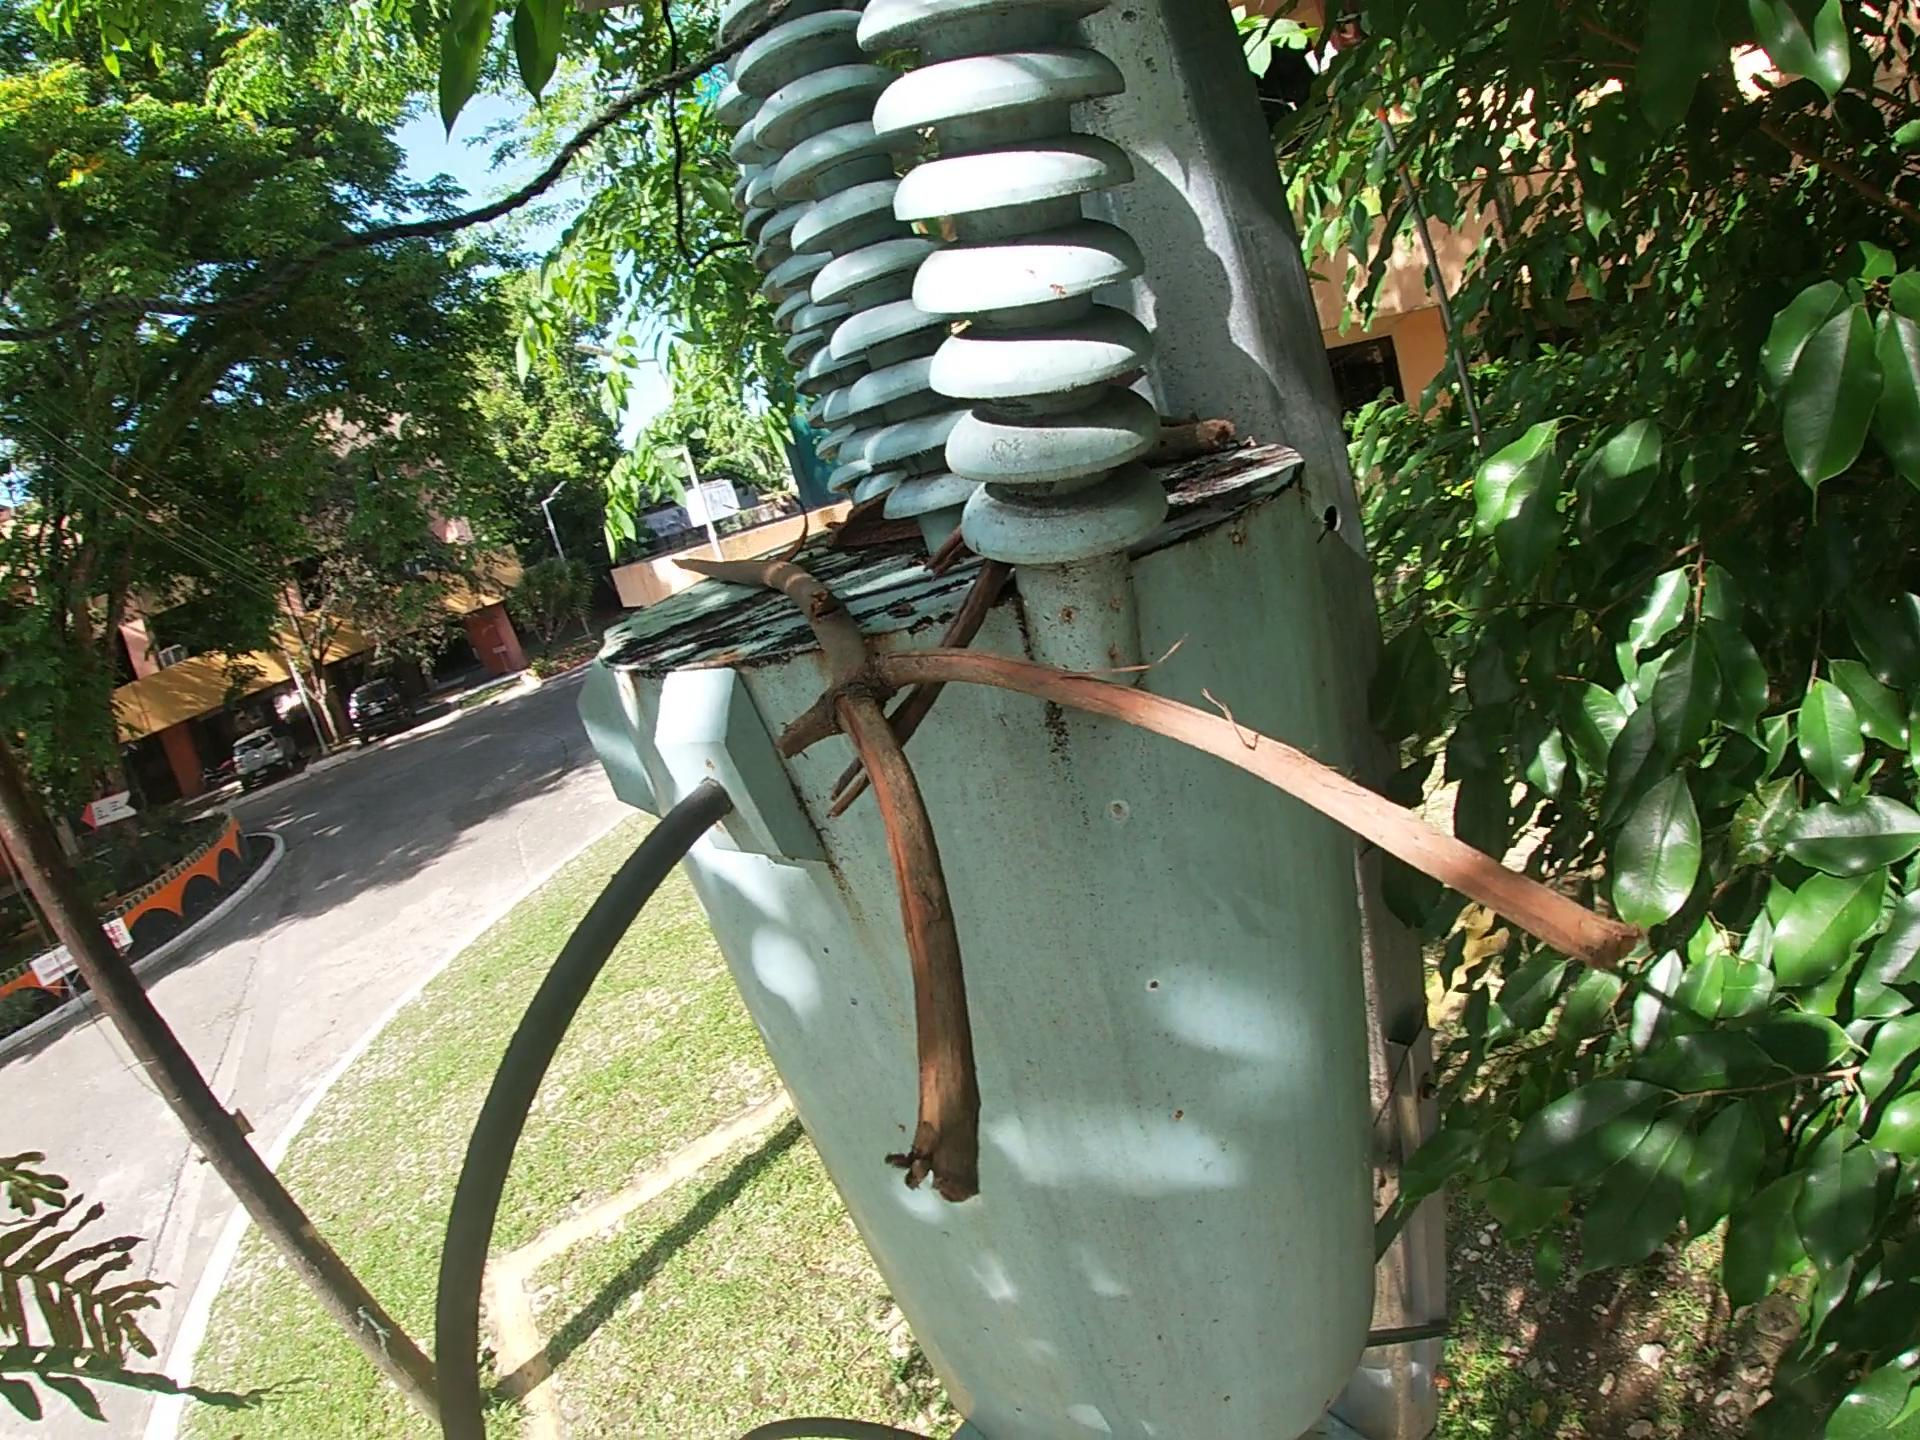mahogany fruit: (822, 486, 924, 561), (773, 492, 810, 566)
tree branch: (658, 548, 1646, 1215), (815, 520, 1014, 839), (1146, 408, 1246, 467)
